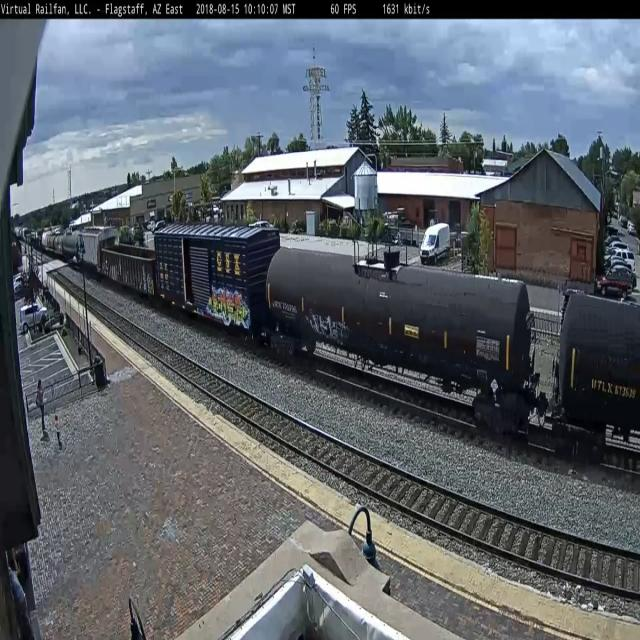boxcar: (152, 215, 283, 346)
tank: (263, 233, 543, 452), (549, 268, 640, 488)
